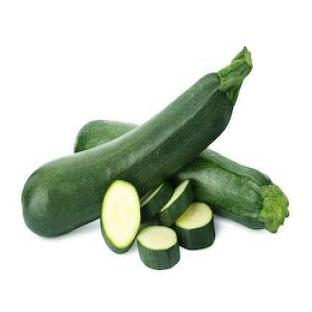Zucchini: (22, 48, 252, 236), (173, 149, 288, 232), (101, 180, 140, 253), (173, 202, 214, 249), (75, 120, 135, 152), (137, 226, 180, 269), (159, 180, 193, 226), (141, 182, 173, 221)
